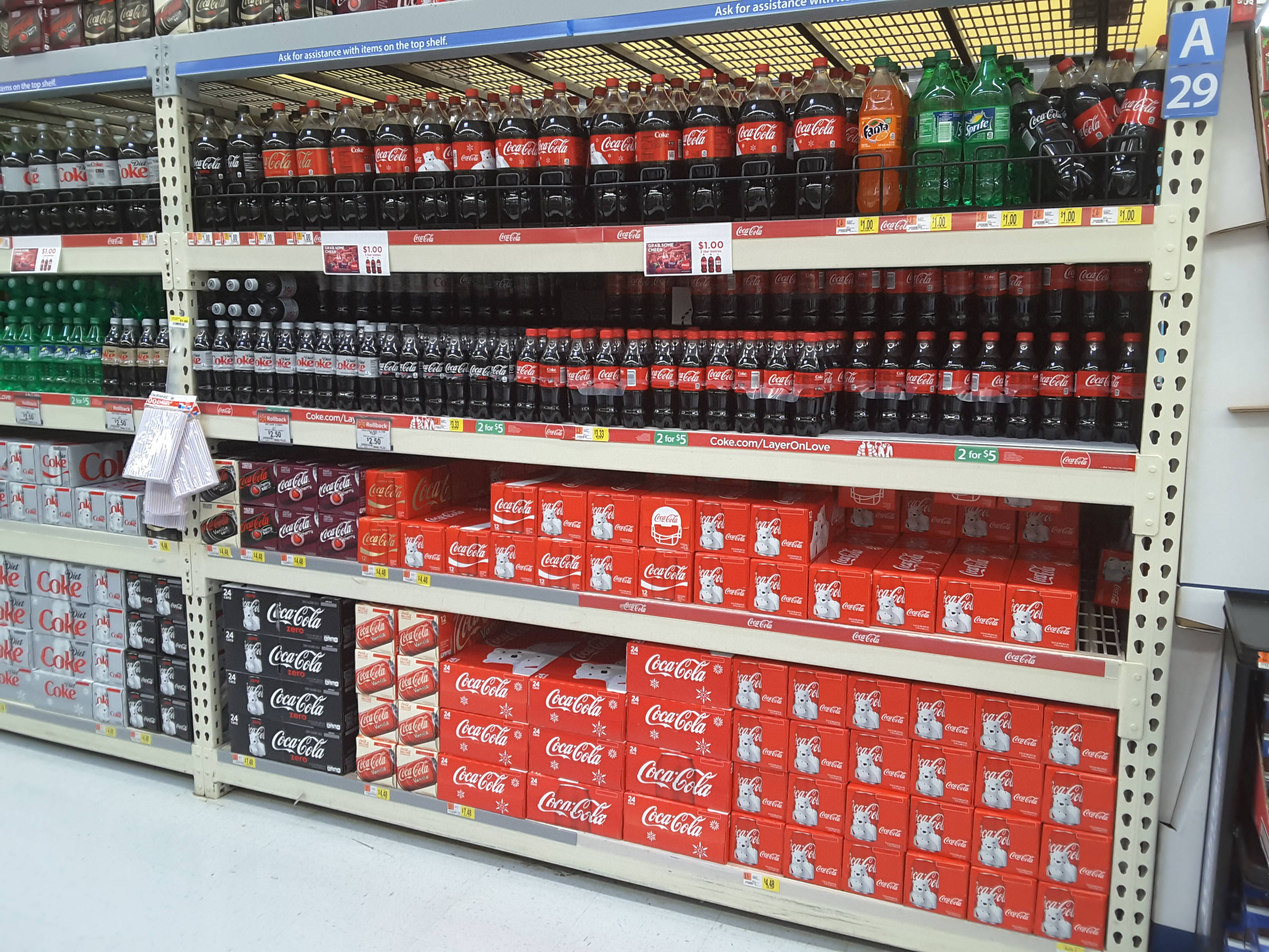Bottle: (1119, 34, 1176, 199), (849, 56, 907, 216), (906, 55, 964, 210), (790, 62, 846, 218), (577, 78, 636, 224), (736, 65, 788, 221), (1010, 77, 1075, 198), (685, 68, 736, 220), (967, 42, 1009, 208), (637, 74, 681, 224), (537, 78, 579, 226), (1076, 52, 1116, 205), (453, 91, 494, 226), (494, 91, 535, 226), (373, 95, 414, 221), (331, 97, 372, 222), (414, 96, 451, 226), (229, 103, 264, 231), (297, 97, 331, 228), (191, 107, 226, 229), (266, 103, 298, 228), (1109, 334, 1144, 443), (1036, 332, 1070, 440), (1073, 332, 1106, 442), (118, 117, 148, 232), (967, 333, 1000, 436), (87, 119, 117, 232), (1004, 333, 1036, 436), (794, 332, 825, 437), (732, 329, 762, 437), (902, 332, 935, 430), (56, 124, 85, 234), (643, 330, 675, 429), (0, 123, 27, 234), (705, 330, 733, 437), (871, 333, 902, 429), (936, 333, 967, 429), (149, 119, 176, 228), (841, 331, 871, 429), (765, 329, 792, 435), (591, 326, 619, 428), (677, 330, 706, 428), (1107, 262, 1147, 333), (31, 124, 56, 235), (538, 326, 566, 421), (512, 327, 538, 424), (619, 329, 644, 428), (488, 326, 512, 424), (440, 326, 466, 416), (1008, 262, 1041, 332), (1041, 262, 1074, 331), (568, 327, 591, 425), (972, 267, 1006, 331), (1077, 261, 1107, 331), (398, 324, 421, 414), (271, 323, 295, 407), (356, 324, 379, 411), (943, 268, 973, 332), (912, 268, 942, 332), (854, 269, 884, 331), (468, 325, 488, 415), (794, 269, 823, 330), (824, 268, 852, 331), (421, 326, 441, 413), (100, 320, 122, 399), (231, 322, 253, 401), (315, 321, 335, 407), (738, 271, 769, 326), (337, 322, 356, 410), (189, 320, 210, 399), (884, 270, 911, 331), (297, 321, 316, 406), (381, 323, 399, 411), (135, 316, 153, 398), (253, 322, 271, 402), (769, 272, 794, 329), (153, 318, 170, 398), (19, 318, 38, 389), (84, 316, 101, 395), (212, 320, 229, 399), (623, 272, 650, 321), (0, 319, 18, 389), (422, 272, 453, 312), (244, 273, 293, 298), (38, 319, 54, 391), (717, 272, 738, 325), (691, 275, 714, 321), (122, 317, 135, 398), (70, 320, 84, 394), (652, 272, 671, 323), (474, 270, 498, 310), (352, 271, 375, 312), (377, 274, 402, 311), (55, 321, 68, 392), (498, 270, 519, 313), (605, 273, 624, 320), (331, 271, 351, 315), (310, 272, 330, 315), (245, 300, 287, 320), (519, 271, 538, 314), (672, 278, 690, 323), (402, 274, 422, 312), (454, 272, 474, 310), (203, 274, 225, 299), (69, 301, 101, 318), (2, 276, 26, 296), (226, 273, 244, 299), (204, 301, 227, 320), (54, 276, 71, 301), (71, 275, 87, 301), (226, 299, 243, 320), (25, 274, 41, 296), (7, 297, 24, 315), (24, 296, 40, 315), (41, 274, 52, 299), (41, 303, 55, 319), (57, 303, 71, 319)
Box: (626, 749, 734, 797), (231, 726, 343, 771), (222, 588, 336, 632), (625, 647, 729, 694), (527, 730, 624, 780), (226, 637, 336, 681), (621, 800, 729, 844), (229, 681, 336, 724), (625, 700, 732, 741), (1045, 709, 1117, 767), (1005, 583, 1075, 642), (937, 572, 1003, 634), (1045, 769, 1113, 828), (440, 714, 527, 760), (976, 754, 1043, 812), (979, 692, 1043, 752), (437, 760, 528, 802), (528, 783, 621, 824), (1042, 830, 1108, 887), (751, 502, 815, 560), (975, 813, 1036, 873), (911, 685, 975, 741), (870, 569, 937, 622), (1037, 890, 1104, 942), (907, 799, 969, 855), (904, 858, 968, 912), (531, 691, 622, 728), (974, 873, 1031, 932), (847, 676, 907, 732), (750, 560, 807, 618), (912, 743, 972, 798), (811, 566, 869, 622), (847, 788, 904, 844), (787, 828, 841, 886), (842, 844, 902, 896), (849, 736, 909, 788), (788, 719, 846, 771), (790, 670, 848, 721), (693, 551, 746, 606), (787, 776, 845, 826), (695, 499, 749, 552), (639, 497, 694, 549), (579, 542, 635, 593), (1096, 553, 1149, 606), (439, 676, 529, 707), (734, 662, 787, 713), (1018, 503, 1080, 545), (732, 820, 785, 869), (734, 769, 787, 818), (639, 549, 690, 598), (587, 492, 637, 541), (736, 716, 786, 765), (537, 487, 584, 537), (28, 562, 89, 600), (363, 470, 411, 518), (489, 532, 534, 582), (959, 498, 1013, 539), (902, 492, 952, 536), (534, 537, 580, 584), (400, 524, 446, 569), (445, 527, 488, 575), (494, 484, 536, 532), (35, 677, 89, 714), (356, 518, 398, 565), (33, 637, 87, 673), (30, 602, 91, 633), (352, 605, 393, 651), (849, 490, 895, 530), (199, 501, 239, 546), (41, 444, 82, 486), (395, 659, 439, 698), (358, 695, 395, 741), (353, 653, 394, 693), (395, 611, 436, 651), (198, 460, 237, 502), (317, 468, 355, 511), (318, 513, 356, 556), (276, 466, 314, 507), (395, 748, 433, 789), (398, 701, 436, 742), (242, 461, 275, 506), (5, 12, 40, 54), (278, 513, 317, 550), (152, 579, 187, 619), (105, 494, 143, 530), (242, 509, 276, 549), (0, 667, 35, 705), (357, 746, 392, 784), (89, 688, 124, 725), (45, 8, 80, 44), (37, 487, 71, 524), (159, 656, 188, 698), (91, 648, 122, 687), (7, 445, 40, 481), (75, 490, 107, 526), (159, 701, 189, 739), (127, 691, 154, 733), (153, 0, 188, 32), (84, 5, 114, 42), (126, 652, 155, 690), (93, 606, 122, 644), (0, 628, 29, 665), (7, 483, 35, 521), (0, 592, 31, 626), (90, 569, 120, 604), (116, 5, 149, 36), (0, 556, 28, 591), (159, 623, 188, 655), (126, 575, 150, 611), (129, 614, 153, 650), (238, 2, 273, 24), (195, 3, 227, 27)
